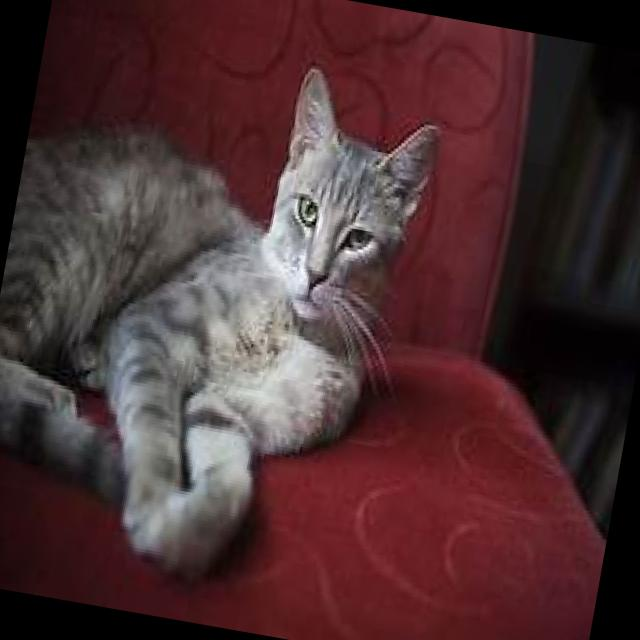animal: (0, 9, 460, 627)
